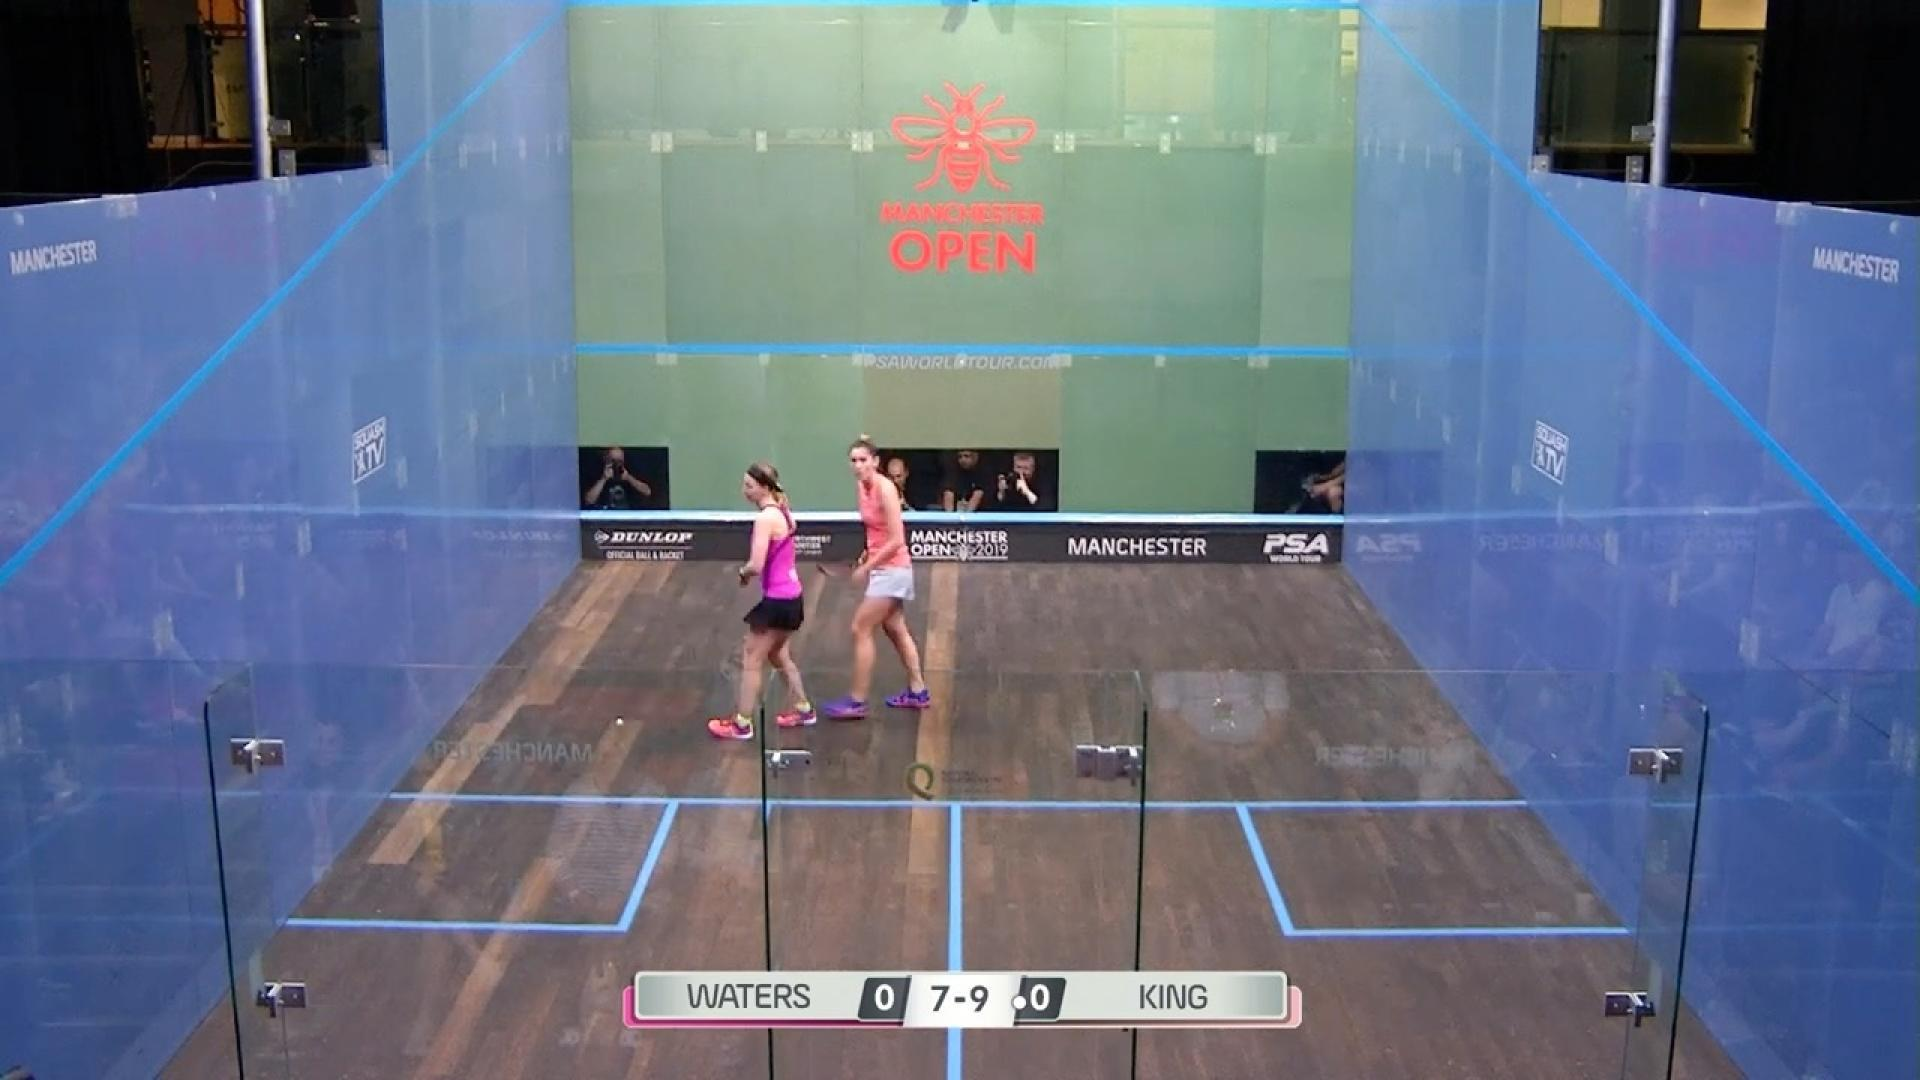Squash-Ball: (600, 700, 642, 753)
